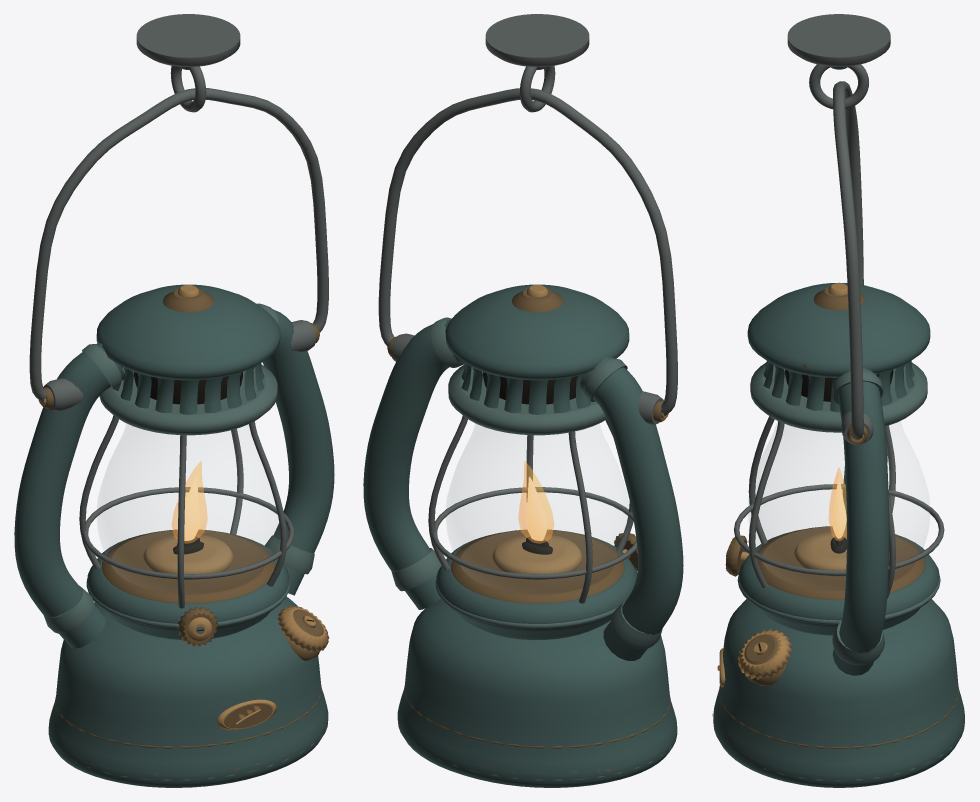
The model's file is camp_lantern.glb.
3 renders of one model, left to right at view 1: azimuth 30°, elevation 25°; view 2: azimuth 150°, elevation 25°; view 3: azimuth 270°, elevation 25°, orthographic.
Visible parts, largest first — view 1: Lantern, Chimney, Mount, Flame; view 2: Lantern, Chimney, Mount, Flame; view 3: Lantern, Chimney, Mount, Flame.
Boxes of the visible parts, x1,y1,x2,y2 form: Lantern: (14, 88, 334, 787); Chimney: (97, 424, 278, 593); Mount: (136, 14, 240, 112); Flame: (172, 461, 207, 543); Lantern: (363, 88, 683, 787); Chimney: (446, 424, 628, 593); Mount: (485, 14, 589, 112); Flame: (518, 461, 553, 543); Lantern: (712, 81, 964, 787); Chimney: (748, 421, 929, 589); Mount: (787, 14, 890, 109); Flame: (829, 467, 846, 540).
Size of the model in its own units: 0.273 by 0.582 by 0.1913.
